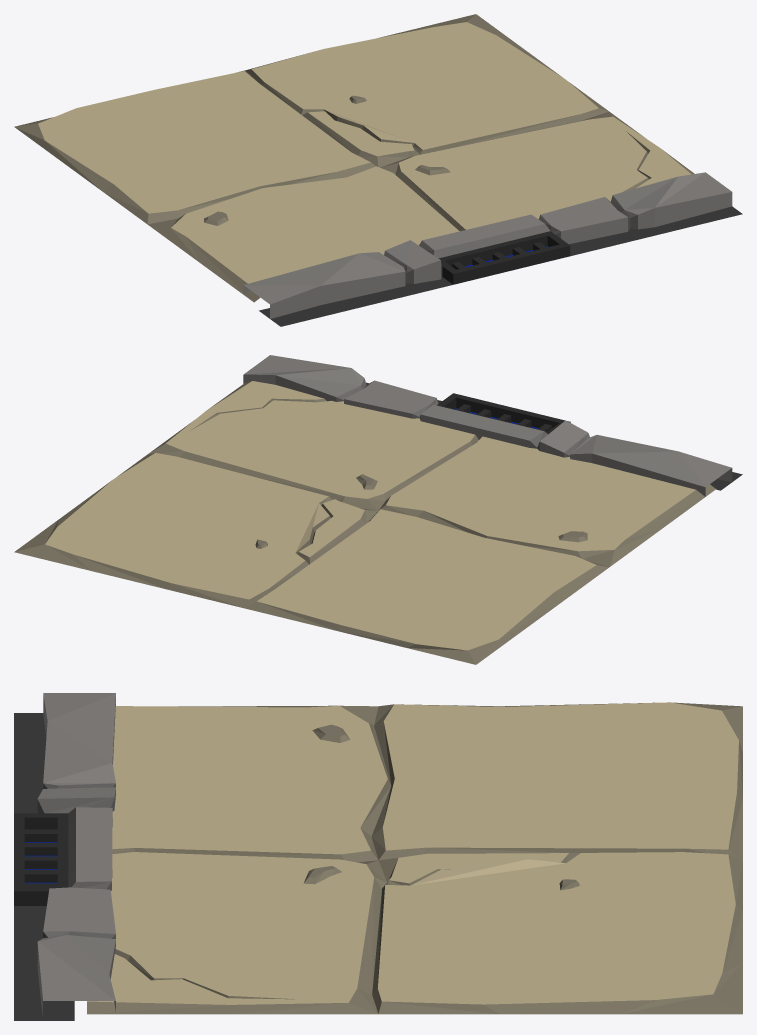
Rendered from Sidewalk_03.FBX.
3 renders of one model, top to bottom at view 1: azimuth 30°, elevation 25°; view 2: azimuth 150°, elevation 25°; view 3: azimuth 270°, elevation 25°, orthographic. The views are drawn at different scales.
Parts seen in each view (by area): view 1: Sidewalk_03; view 2: Sidewalk_03; view 3: Sidewalk_03.
Part boxes in pixels (<box>): Sidewalk_03: <box>14,14,742,326</box>; Sidewalk_03: <box>14,355,742,664</box>; Sidewalk_03: <box>14,693,742,1020</box>.
Size of the model in its own units: 5 by 0.2001 by 5.
